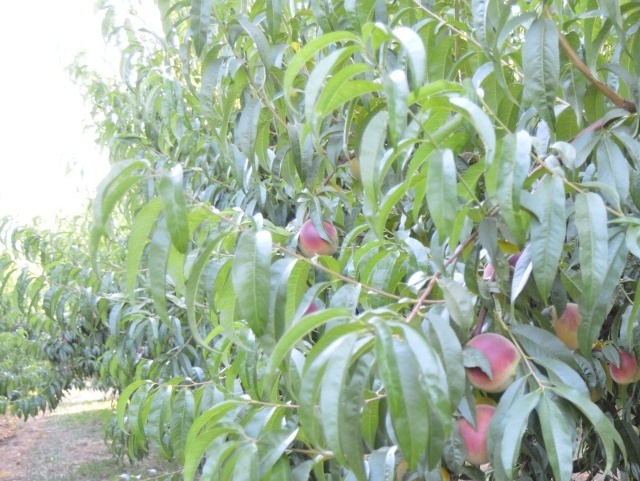peach: (457, 328, 524, 397), (453, 400, 509, 472), (297, 215, 343, 266), (550, 300, 589, 355), (607, 349, 640, 385)
